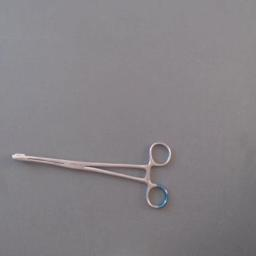Sponge Forceps: (6, 137, 174, 217)
